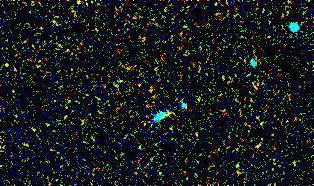star: (0, 49, 20, 79)
